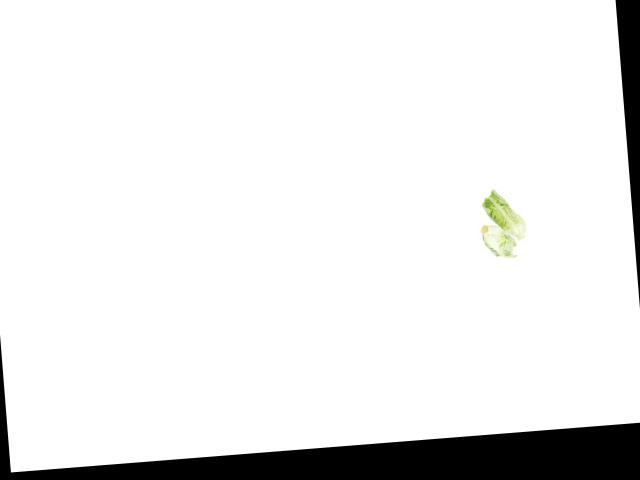lettuce: (469, 189, 529, 263)
